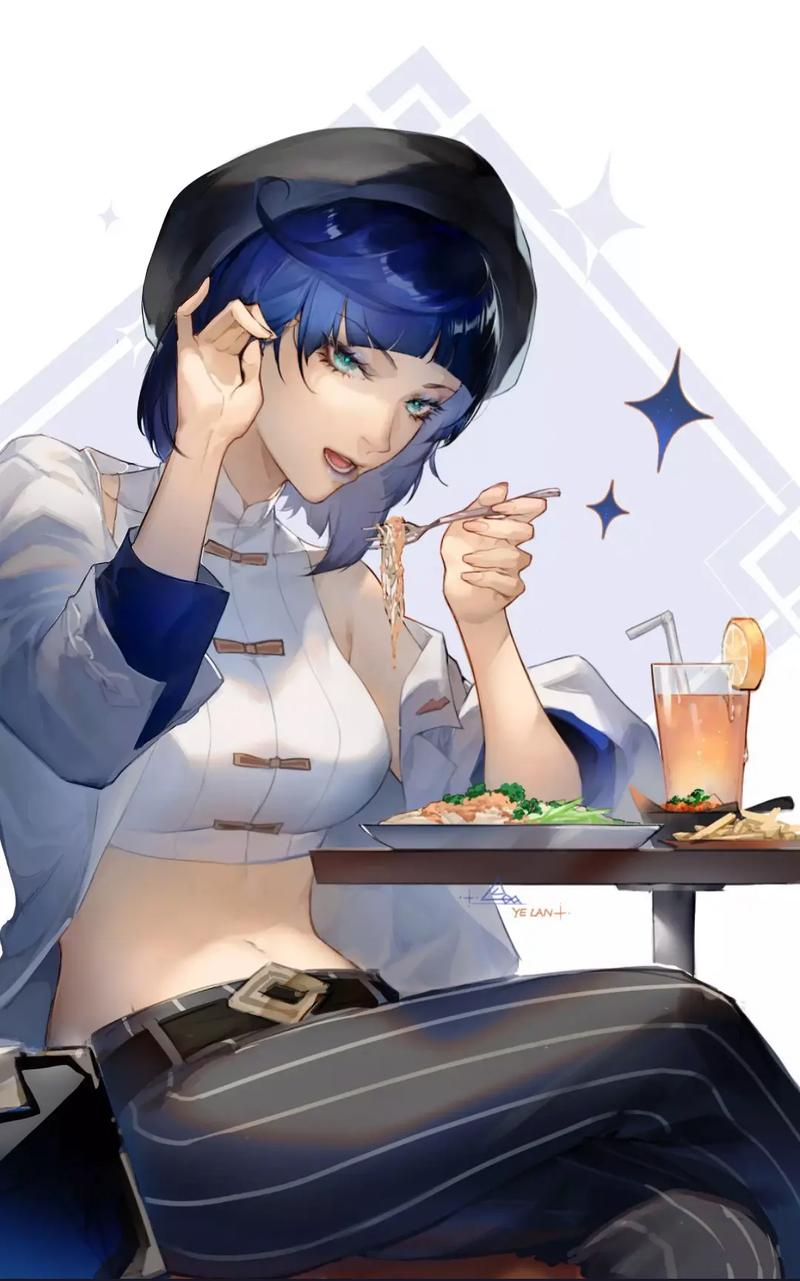夜兰: (1, 133, 796, 1281)
